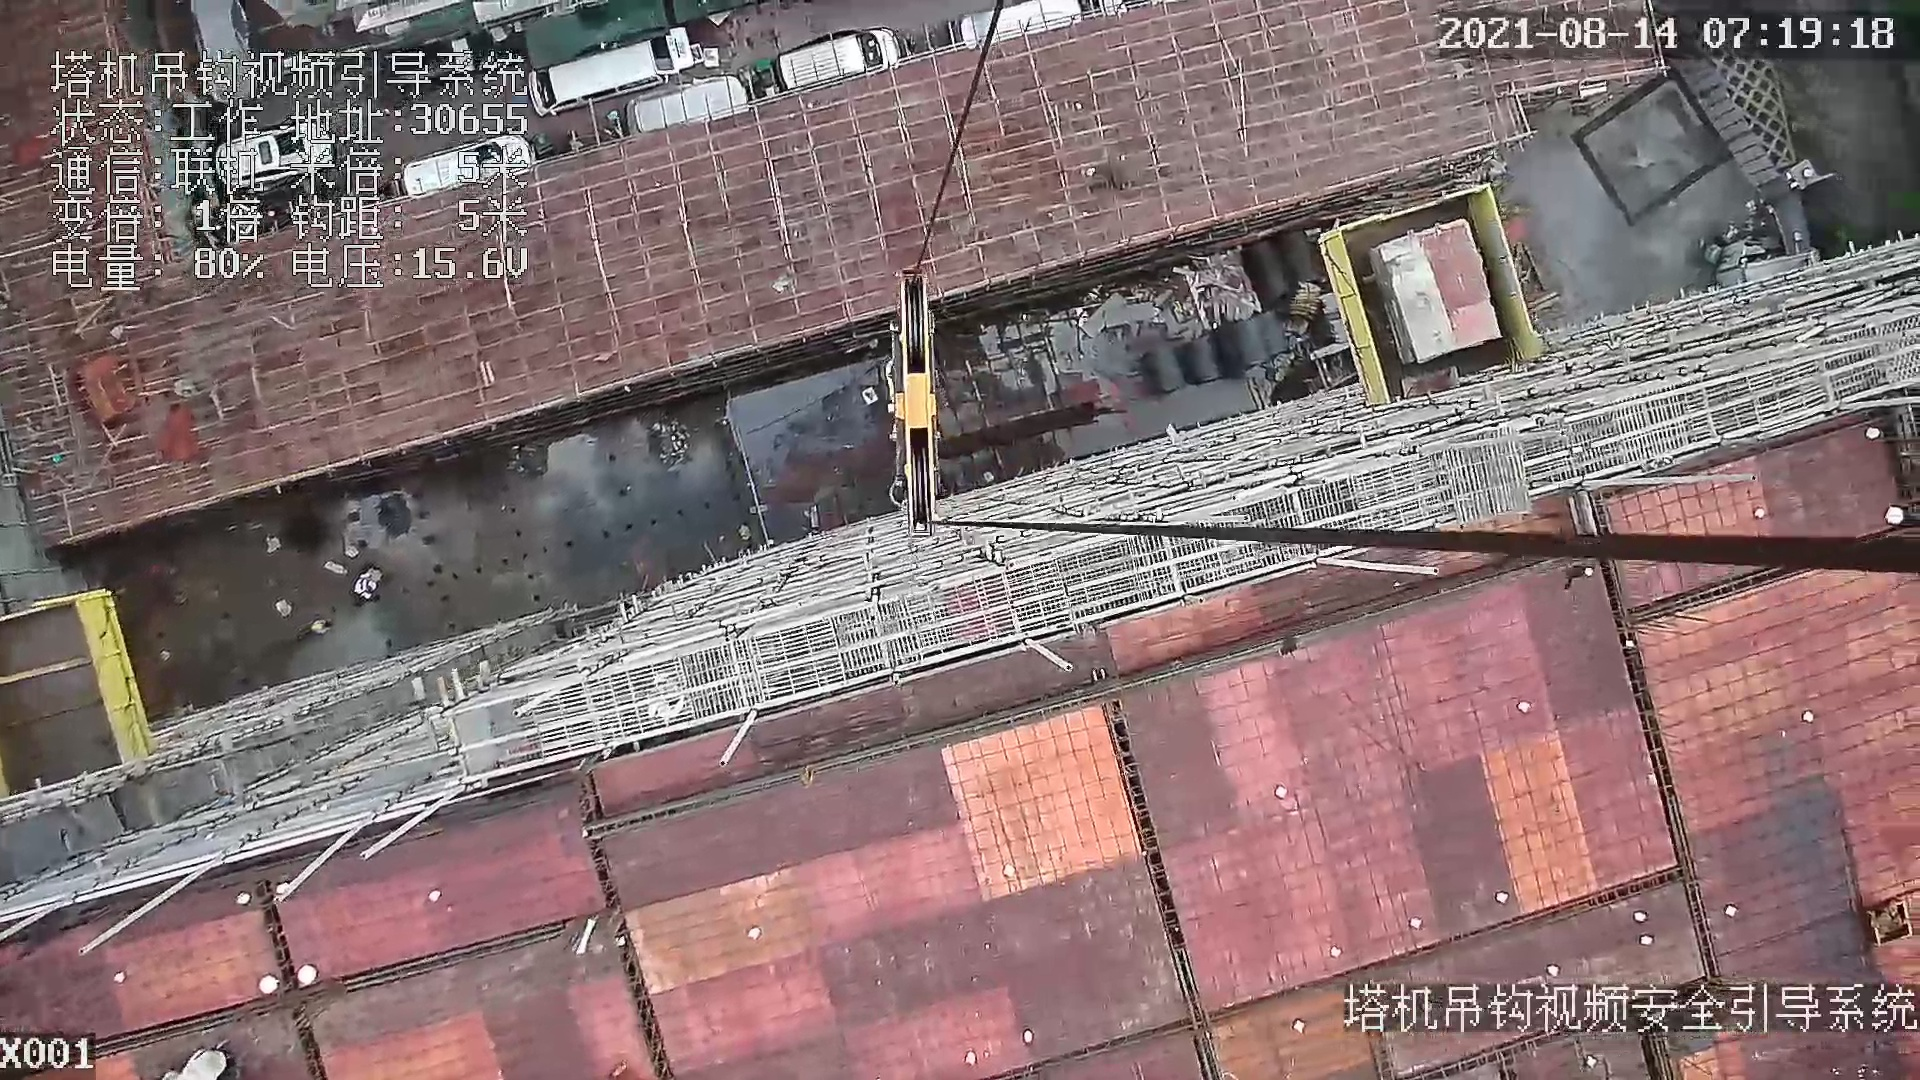hook: (866, 272, 955, 535)
